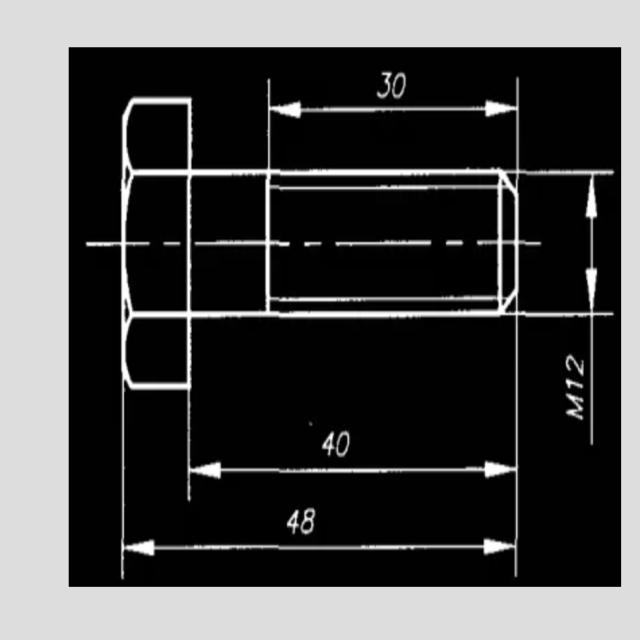marking_line: (117, 395, 519, 581), (184, 395, 521, 502), (520, 167, 614, 450), (268, 78, 520, 169)
numeric: (585, 174, 600, 310), (321, 427, 335, 460), (337, 428, 351, 459), (301, 508, 318, 533), (392, 71, 407, 98), (378, 70, 390, 98), (286, 512, 300, 534)
